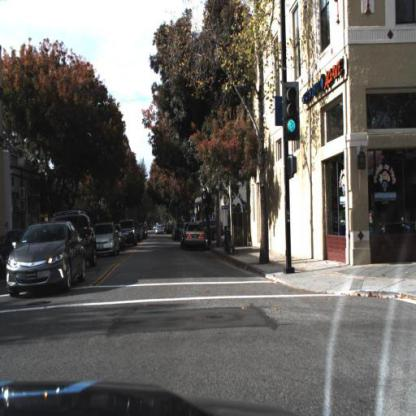car: (5, 219, 87, 302), (68, 209, 100, 274), (97, 220, 120, 261), (183, 224, 208, 255), (188, 215, 205, 245)
trafficLight: (282, 80, 302, 148)
